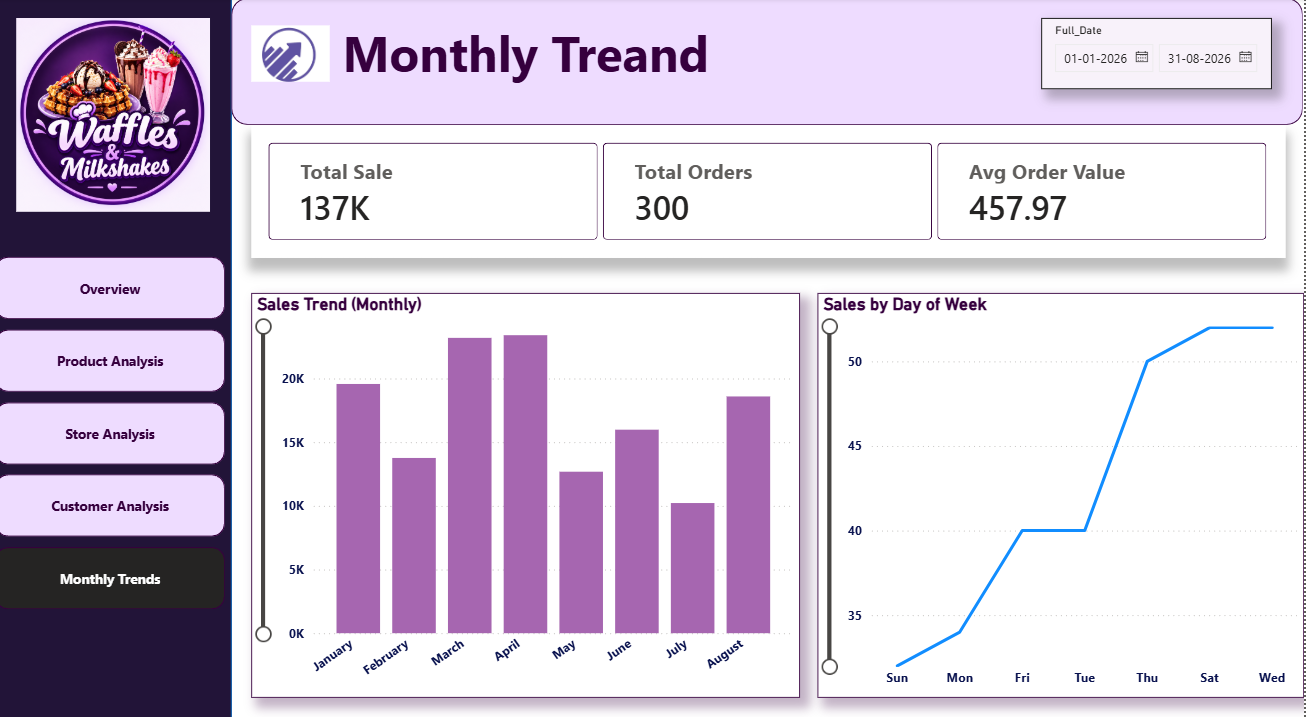

This screenshot's page, from the dashboard's own definition file:
{"tool":"powerbi","page":{"name":"Monthly Trends","canvas":[1280,720],"ordinal":4},"visuals":[{"type":"shape","box":[0,0,231.6,720.2],"z":0},{"type":"cardVisual","title":"Total Orders","fields":{"Data":["FACT_SALES.Total Sale","DIM_STORE.Total Orders","FACT_SALES.Avg Order Value"]},"box":[250.9,124.6,1012.1,129.7],"z":1000},{"type":"columnChart","title":"Sales Trend (Monthly)","fields":{"Category":["DIM_DATE.Month_Name"],"Y":["Sum(FACT_SALES.Total_Amount)"]},"box":[250.7,288.6,536.8,396.2],"z":2000},{"type":"lineChart","title":"Sales by Day of Week","fields":{"Y":["FACT_SALES.Total Sales"],"Category":["DIM_DATE.day_name"]},"box":[804.6,288.6,475.7,396.2],"z":3000},{"type":"shape","box":[231.6,0,1048.4,124.3],"z":4000},{"type":"pageNavigator","box":[0,253.4,225.6,347.5],"z":5000},{"type":"slicer","fields":{"Values":["DIM_DATE.Full_Date"]},"box":[1023.7,19.5,226,69.6],"z":6000},{"type":"image","box":[250.7,19.6,77,69.7],"z":7000},{"type":"image","box":[18.1,19.3,194.2,189.4],"z":8000}]}

Visuals, with their boxes in screenshot pixels (x1, y1, x2, y2), scaled from the page's 1280x720 canvas onto the 1306x717 screenshot:
shape: [left=0, top=0, right=236, bottom=716]
"Total Orders" cardVisual: [left=256, top=124, right=1289, bottom=253]
"Sales Trend (Monthly)" columnChart: [left=256, top=287, right=803, bottom=682]
"Sales by Day of Week" lineChart: [left=821, top=287, right=1305, bottom=682]
shape: [left=236, top=0, right=1305, bottom=124]
pageNavigator: [left=0, top=252, right=230, bottom=598]
slicer - DIM_DATE.Full_Date: [left=1044, top=19, right=1275, bottom=89]
image: [left=256, top=20, right=334, bottom=89]
image: [left=18, top=19, right=217, bottom=208]
